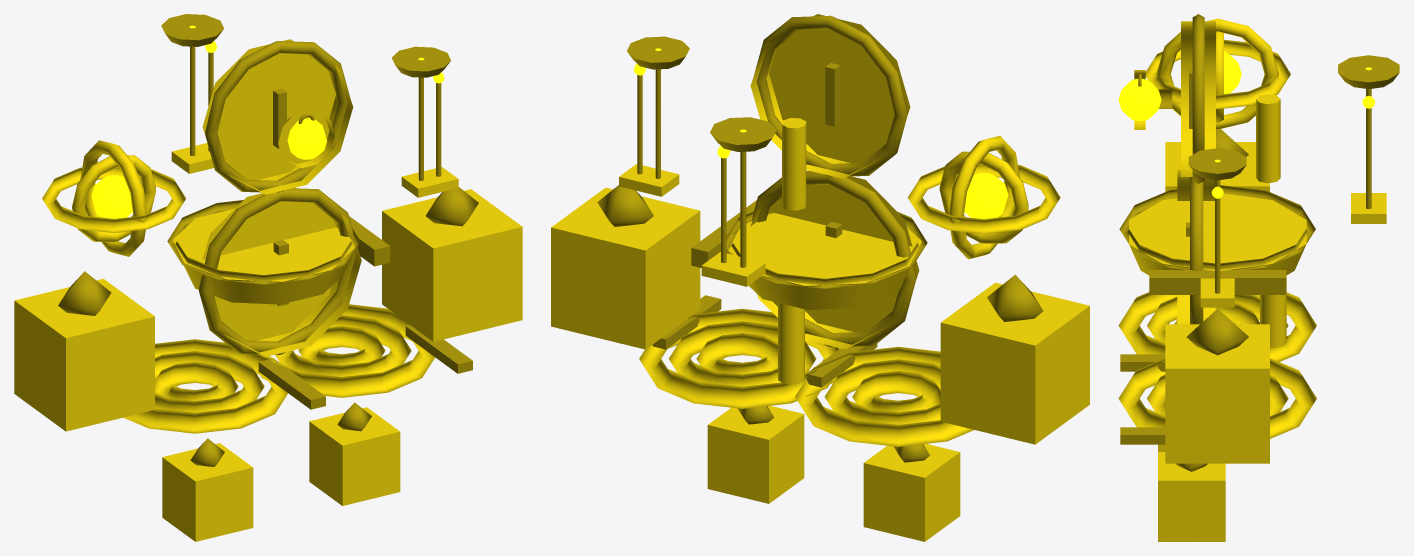
The model's file is golem_073.glb.
3 renders of one model, left to right at view 1: azimuth 30°, elevation 25°; view 2: azimuth 150°, elevation 25°; view 3: azimuth 270°, elevation 25°, orthographic. The views are drawn at different scales.
Parts seen in each view (by area): view 1: Body, Detail, Glow; view 2: Body, Detail, Glow; view 3: Body, Detail, Glow.
Boxes of the visible parts, bbox=[...] form: Body: bbox=[14, 39, 522, 541]; Detail: bbox=[58, 14, 478, 466]; Glow: bbox=[91, 25, 444, 218]; Body: bbox=[551, 14, 1089, 541]; Detail: bbox=[597, 15, 1043, 462]; Glow: bbox=[634, 48, 1008, 219]; Body: bbox=[1118, 18, 1386, 541]; Detail: bbox=[1119, 14, 1399, 471]; Glow: bbox=[1118, 51, 1375, 198].
Size of the model in its own units: 1.32 by 1.27 by 0.6902.
